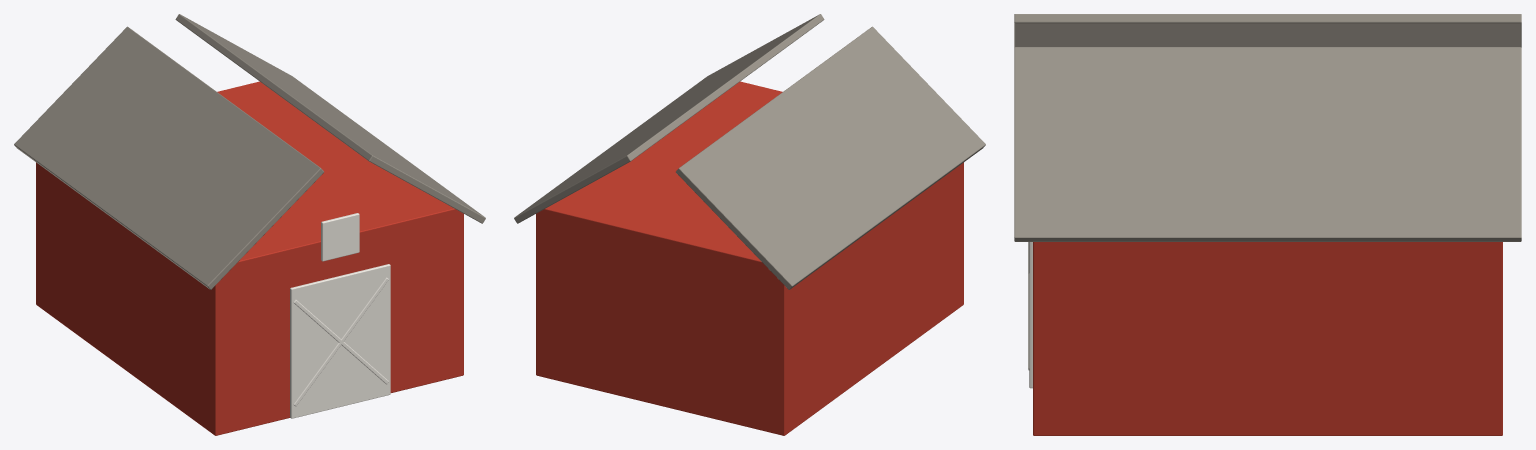
The model's file is barn.glb.
3 renders of one model, left to right at view 1: azimuth 30°, elevation 25°; view 2: azimuth 150°, elevation 25°; view 3: azimuth 270°, elevation 25°, orthographic. The views are drawn at different scales.
Parts seen in each view (by area): view 1: barn; view 2: barn; view 3: barn.
Part boxes in pixels (<box>): barn: <box>14,14,485,435</box>; barn: <box>514,14,985,435</box>; barn: <box>1014,14,1521,435</box>.
Size of the model in its own units: 8.96 by 7.66 by 10.8.
